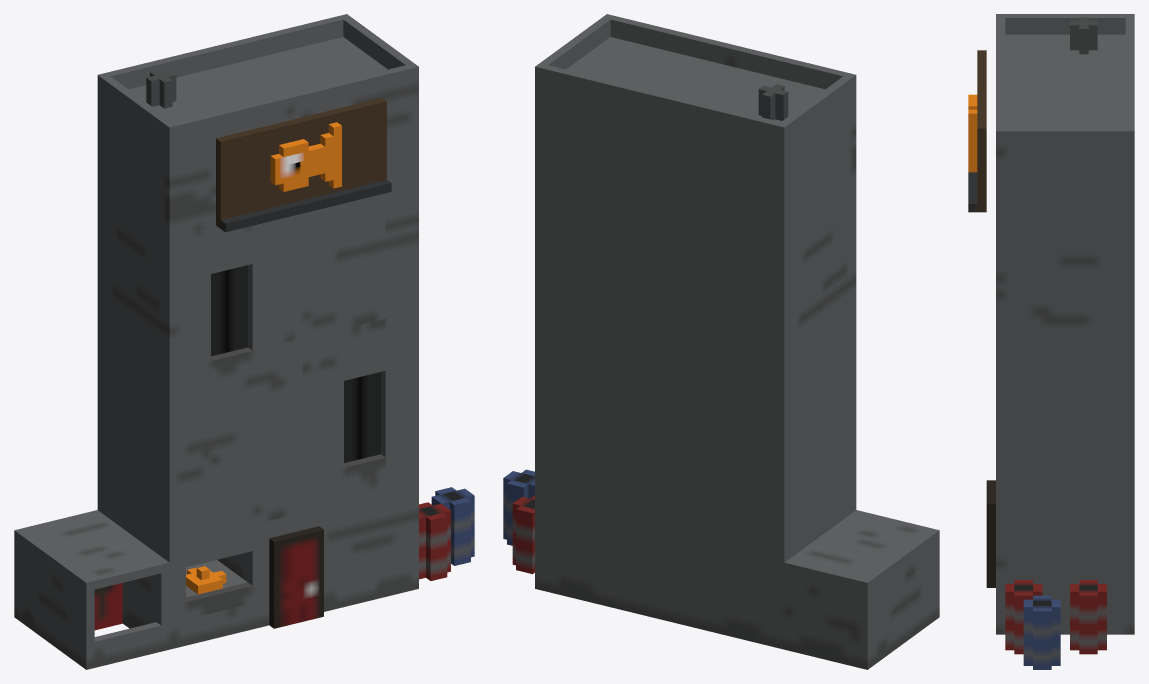
The model's file is Fish3.dae.
3 views of the same model, side by side, from view 1: azimuth 30°, elevation 25°; view 2: azimuth 150°, elevation 25°; view 3: azimuth 270°, elevation 25° (orthographic). The views are drawn at different scales.
Parts seen in each view (by area): view 1: Fish3; view 2: Fish3; view 3: Fish3.
Boxes of the visible parts, x1,y1,x2,y2 form: Fish3: (14,14,474,669); Fish3: (503,14,939,669); Fish3: (968,14,1134,669).
Size of the model in its own units: 49 by 61 by 18.
Materials: 1 (1 with a texture image).
